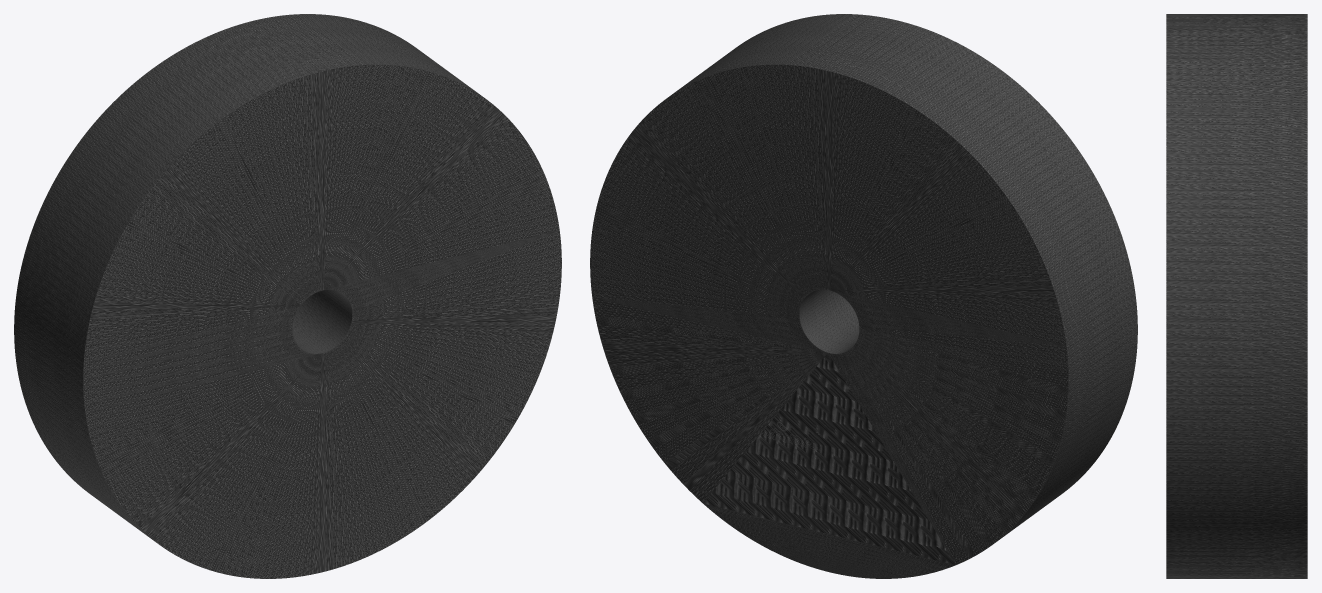
File: roue_av.dae
3 views of the same model, side by side, from view 1: azimuth 30°, elevation 25°; view 2: azimuth 150°, elevation 25°; view 3: azimuth 270°, elevation 25° (orthographic). The views are drawn at different scales.
Visible parts, largest first — view 1: Roue_Av; view 2: Roue_Av; view 3: Roue_Av.
Boxes of the visible parts, <box> form: Roue_Av: <box>14,14,561,578</box>; Roue_Av: <box>590,14,1137,578</box>; Roue_Av: <box>1166,14,1307,578</box>.
Size of the model in its own units: 0.16 by 0.04 by 0.16.
Materials: 1 (1 with a texture image).
